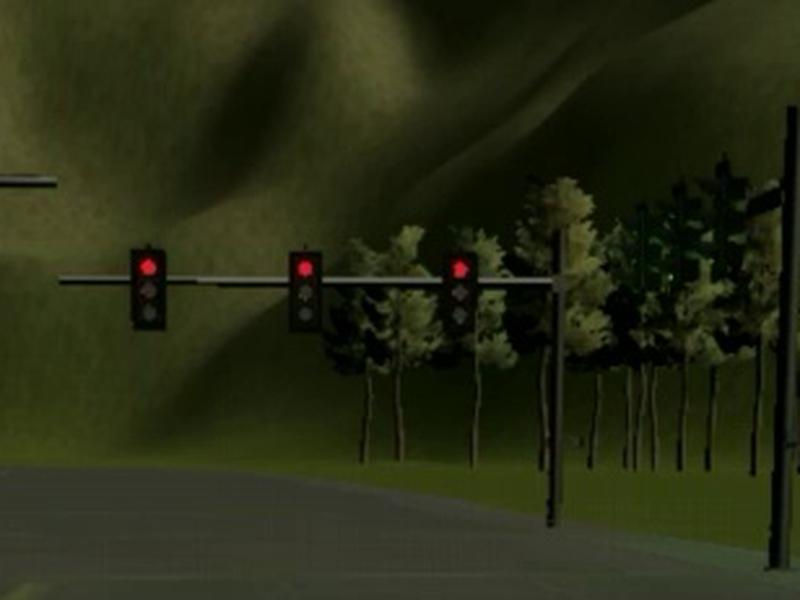Red: (130, 246, 168, 330), (285, 248, 322, 332), (442, 250, 477, 333)
